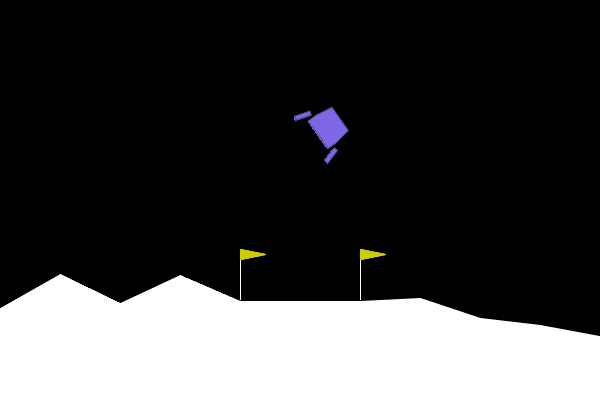lander: (292, 94, 359, 166)
